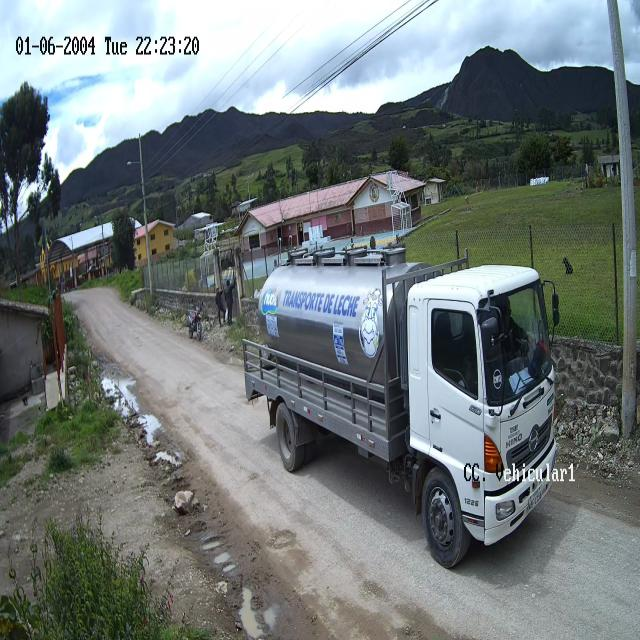TRUCK: (245, 245, 559, 569)
